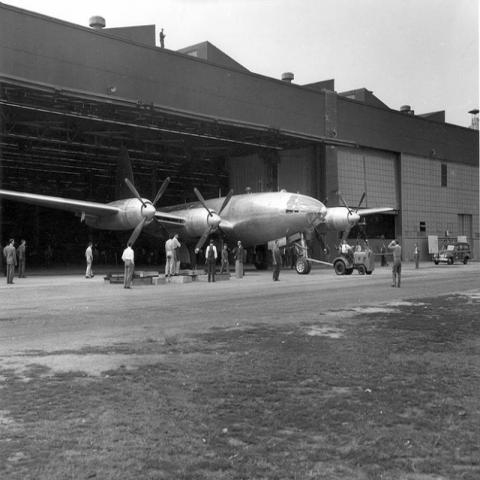car: (432, 243, 471, 266)
